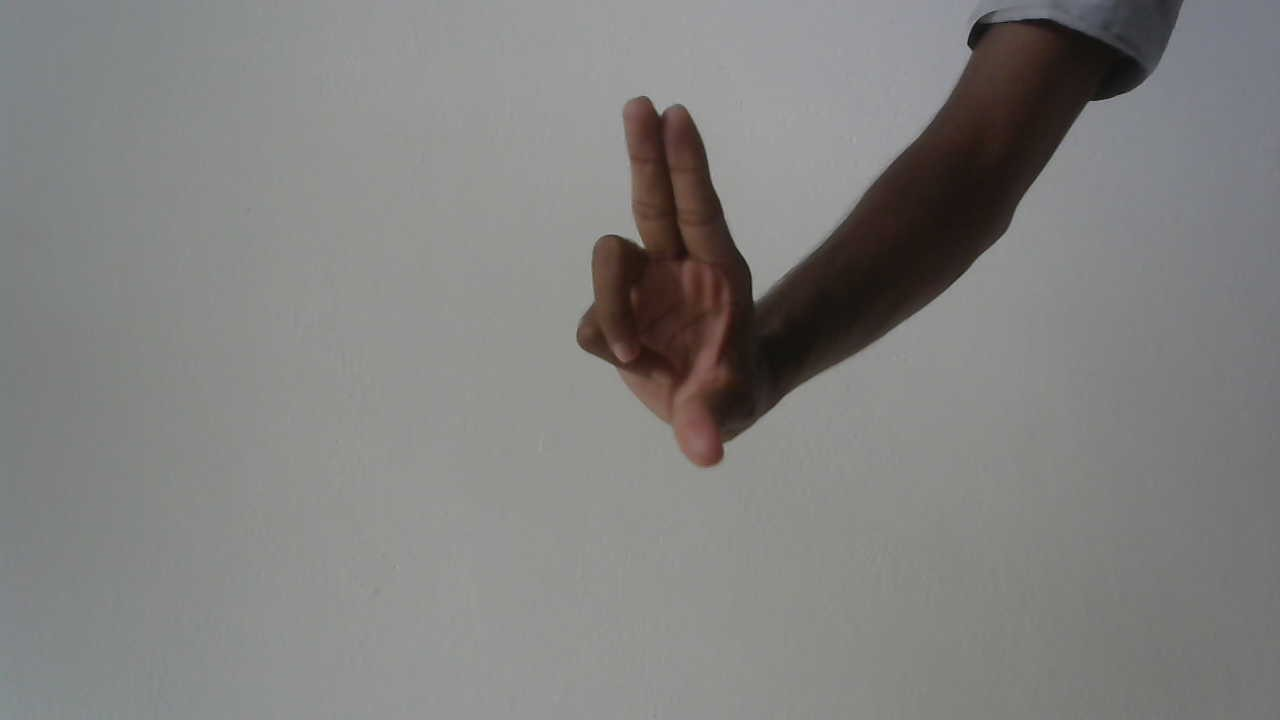no: (560, 83, 809, 490)
